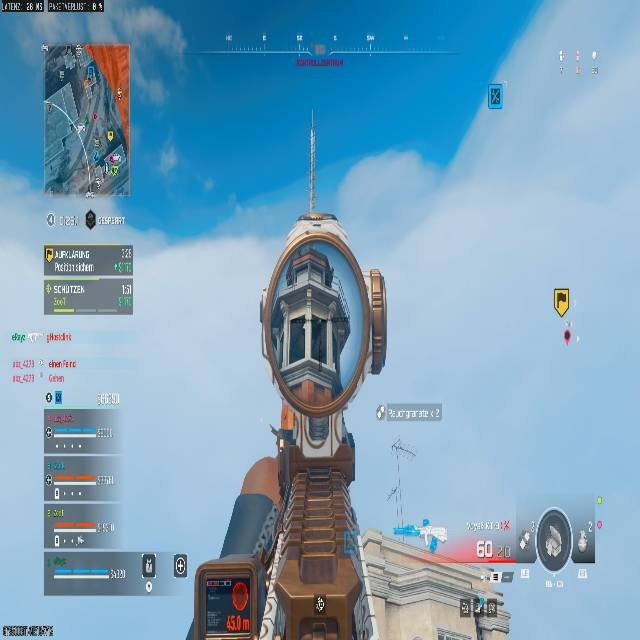head: (257, 218, 387, 421)
player: (181, 210, 436, 640)
